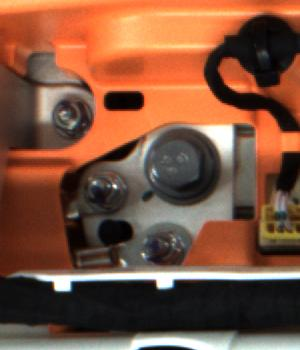screw_s: (146, 225, 192, 268), (81, 168, 124, 211), (51, 96, 92, 136)
